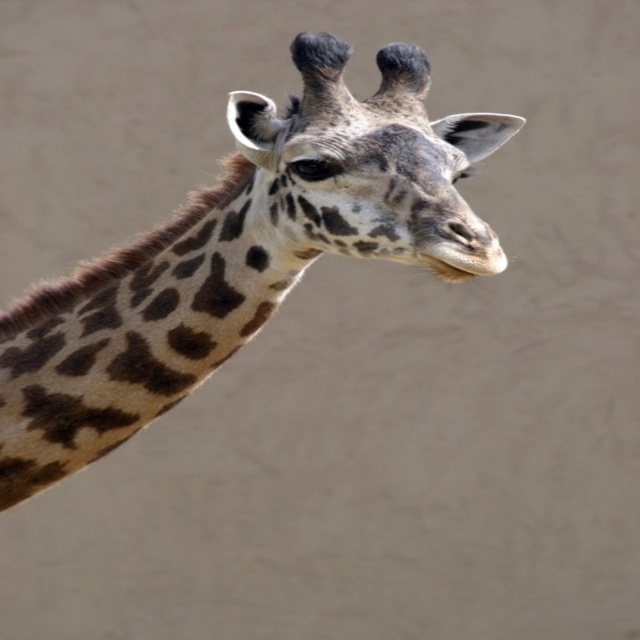Giraffe: (20, 36, 513, 540)
